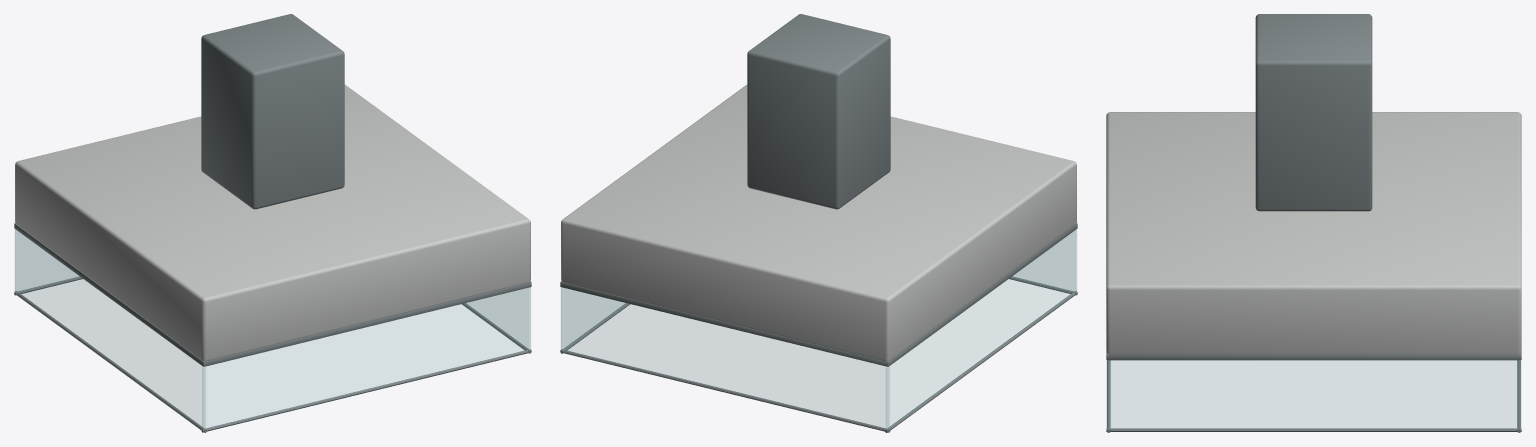
Rendered from sc-laminar-canopy-xl.glb.
3 views of the same model, side by side, from view 1: azimuth 30°, elevation 25°; view 2: azimuth 150°, elevation 25°; view 3: azimuth 270°, elevation 25° (orthographic). The views are drawn at different scales.
Visible parts, largest first — view 1: sc-laminar-canopy-xl; view 2: sc-laminar-canopy-xl; view 3: sc-laminar-canopy-xl.
Part boxes in pixels (box(x1,y1,x2,y2)): sc-laminar-canopy-xl: box(14, 14, 531, 432); sc-laminar-canopy-xl: box(560, 14, 1077, 432); sc-laminar-canopy-xl: box(1106, 14, 1521, 432).
Size of the model in its own units: 3.2 by 2.62 by 3.2.
